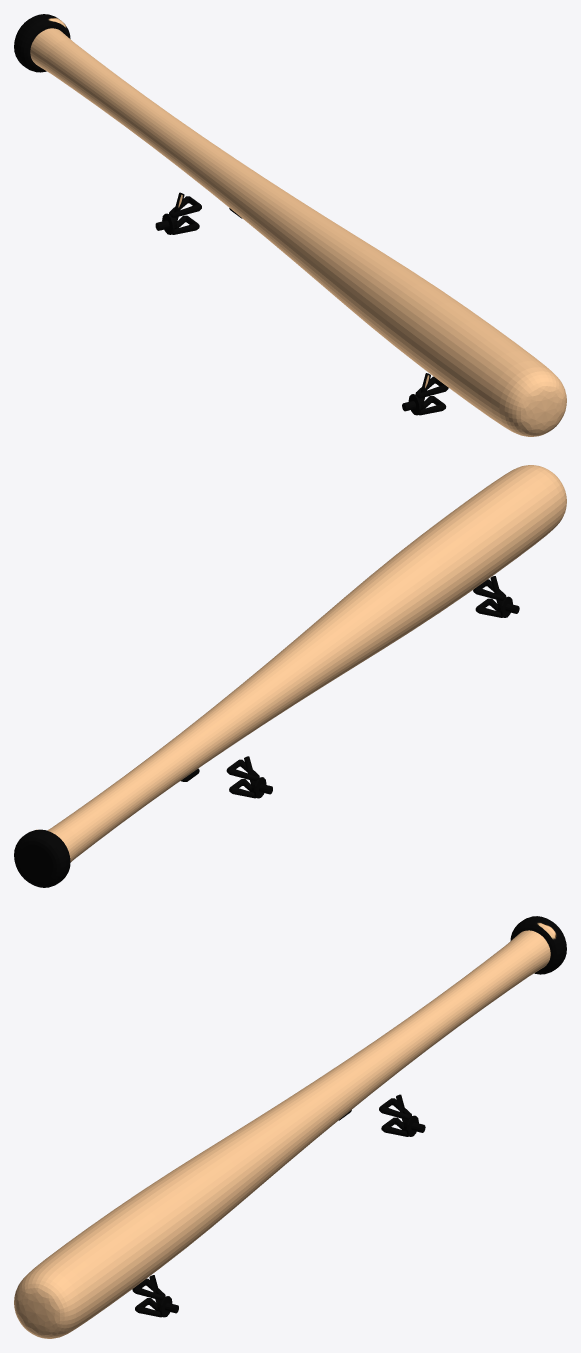
3 renders of one model, top to bottom at view 1: azimuth 30°, elevation 25°; view 2: azimuth 150°, elevation 25°; view 3: azimuth 330°, elevation 25°, orthographic.
Visible parts, largest first — view 1: body'; view 2: body'; view 3: body'.
Boxes of the visible parts, x1,y1,x2,y2 form: body': (14,14,566,436); body': (14,465,566,887); body': (14,916,566,1338).
Size of the model in its own units: 1.7 by 1.28 by 13.23.
Materials: 1 (1 with a texture image).
